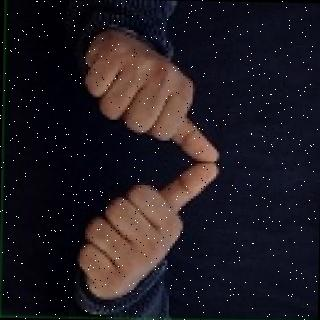A: (55, 35, 231, 296)
